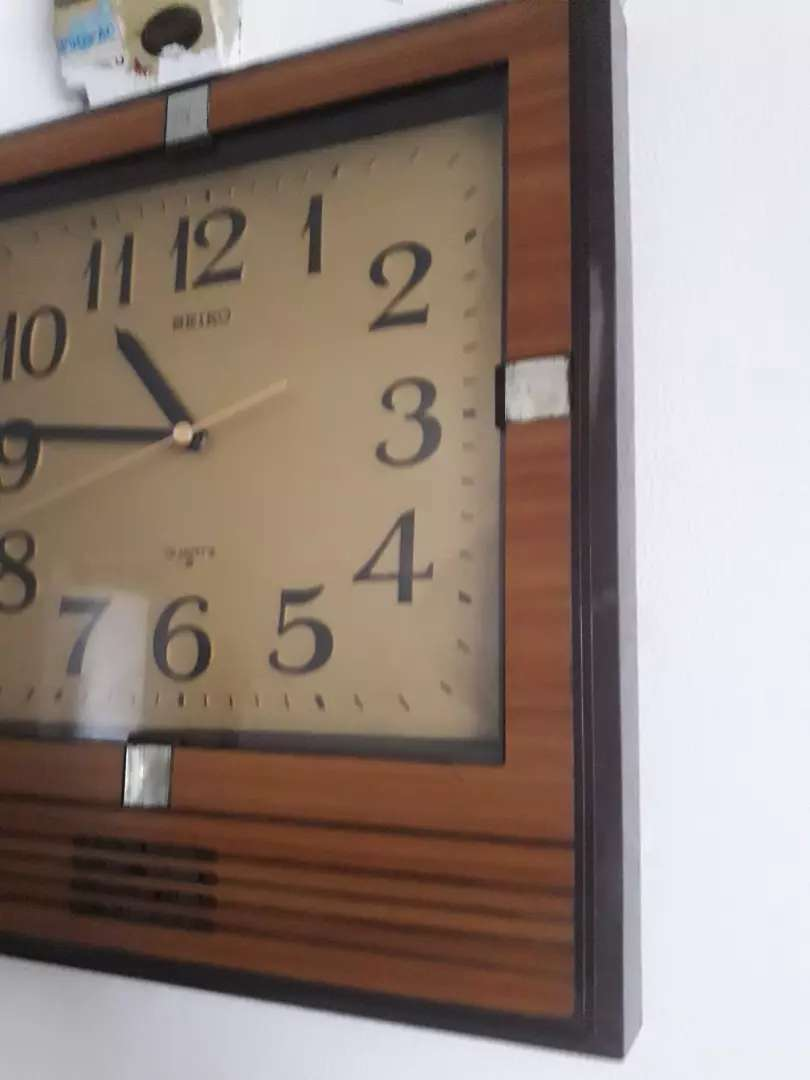jam dinding: (3, 121, 578, 793)
